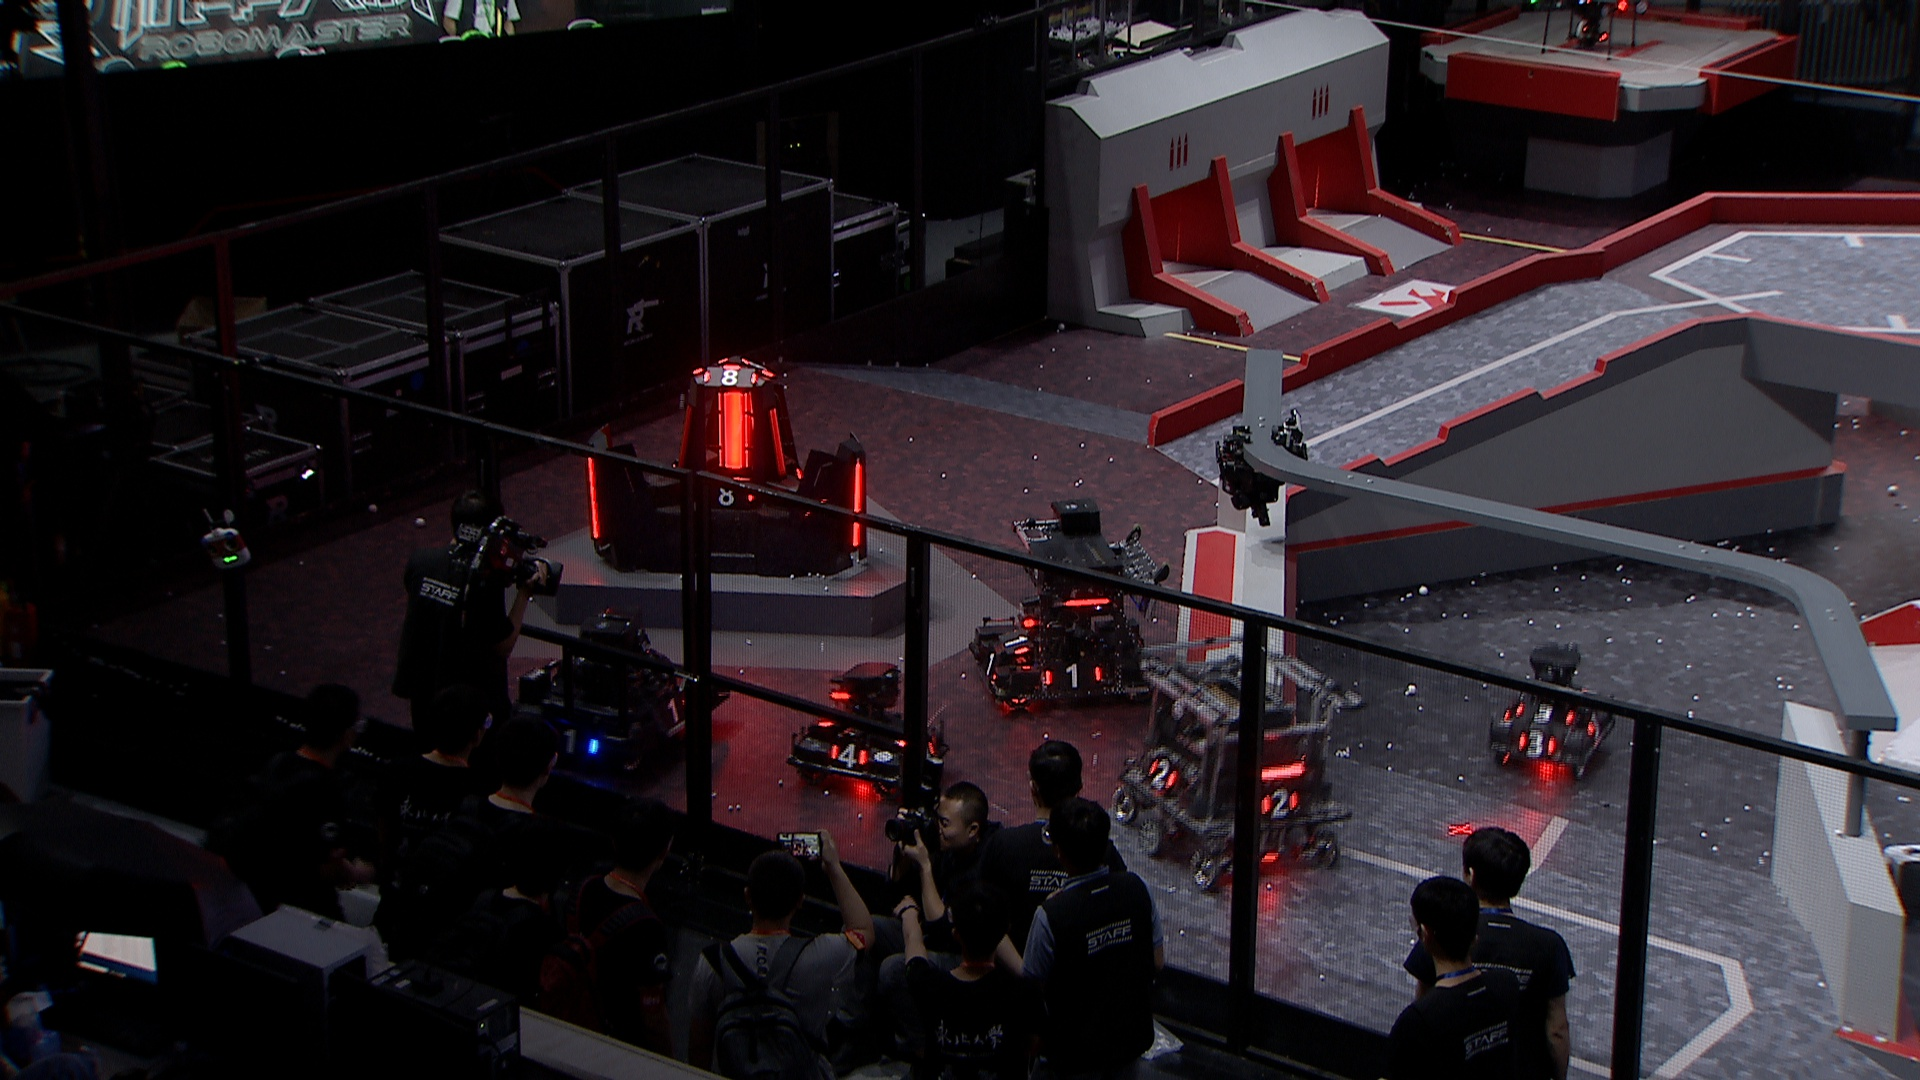armor: (713, 390, 760, 469), (1036, 665, 1105, 694), (585, 455, 605, 543), (767, 407, 789, 480), (700, 367, 761, 392), (1514, 702, 1577, 725), (1513, 728, 1560, 760), (851, 462, 868, 549), (675, 407, 698, 471), (556, 727, 603, 757), (1259, 789, 1304, 818), (708, 484, 757, 509), (828, 744, 869, 771), (1147, 760, 1182, 793), (1001, 628, 1029, 657), (981, 647, 1001, 683), (1581, 713, 1607, 740), (662, 698, 688, 723)
base: (574, 351, 874, 583)
car: (1112, 626, 1367, 891), (961, 496, 1168, 713), (509, 608, 721, 779), (783, 659, 949, 798), (1485, 640, 1621, 778)
watcher: (1215, 409, 1309, 529)
